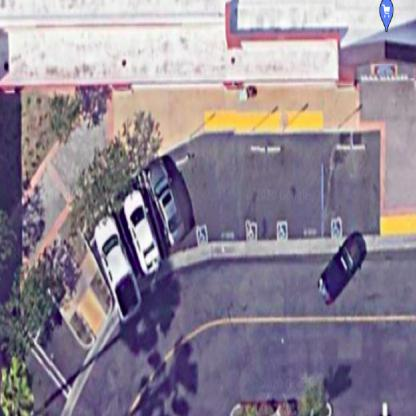car: (139, 160, 202, 247), (91, 220, 140, 328), (315, 225, 369, 306), (120, 191, 161, 277)
